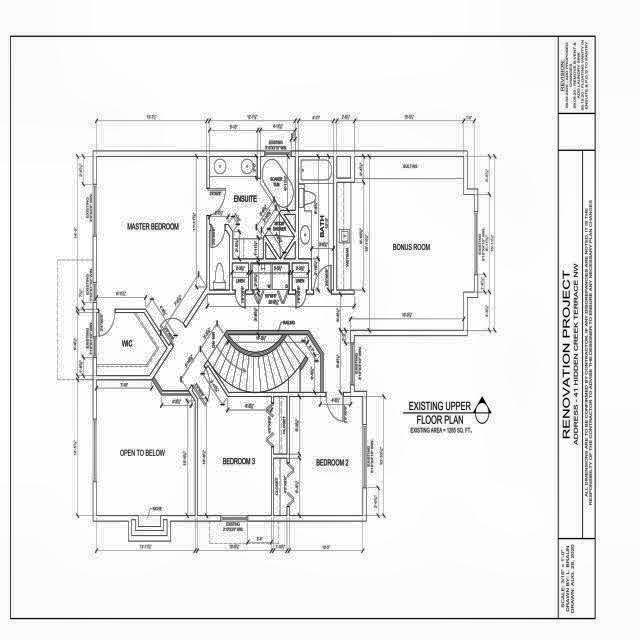room: (97, 157, 207, 345), (97, 380, 195, 526), (192, 366, 271, 515), (289, 397, 363, 516), (209, 157, 295, 259), (299, 157, 333, 290), (97, 313, 167, 375), (210, 231, 229, 290), (251, 263, 289, 290), (274, 458, 287, 515), (274, 397, 287, 454), (232, 263, 248, 290), (292, 263, 308, 290)
